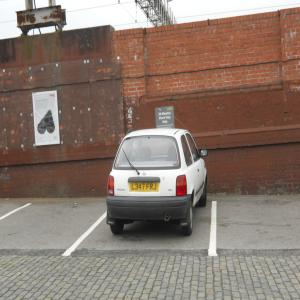Vehicle-registration-plate: (130, 183, 160, 192)
